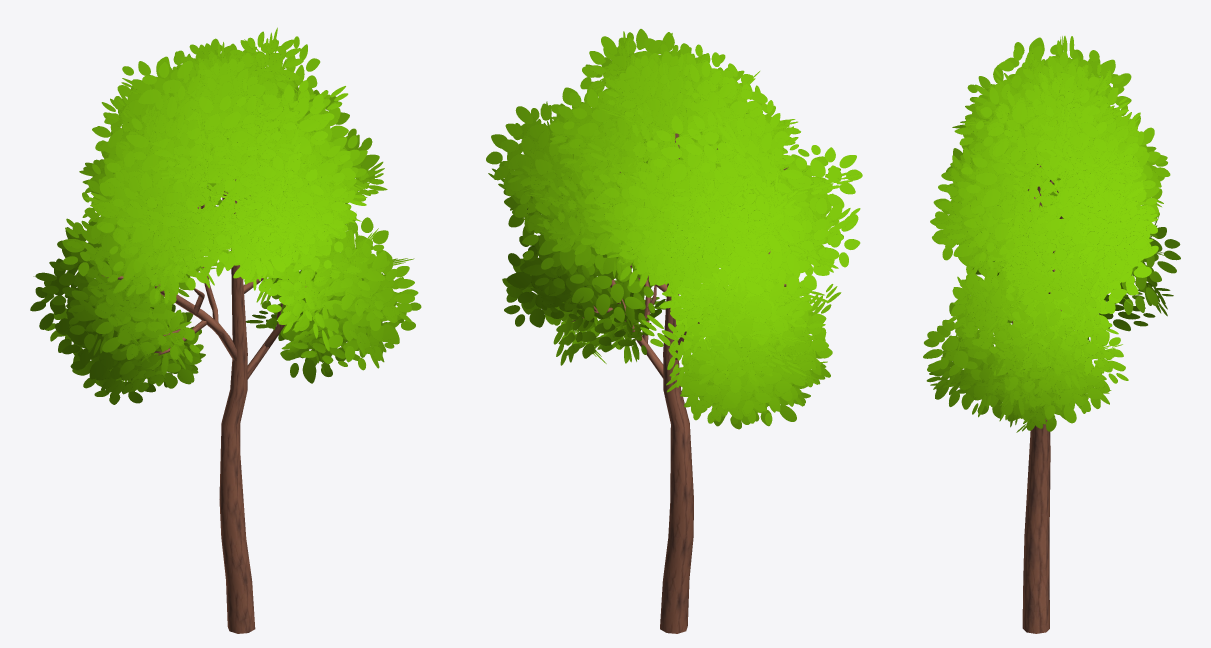
Rendered from tree_a.glb.
3 views of the same model, side by side, from view 1: azimuth 30°, elevation 25°; view 2: azimuth 150°, elevation 25°; view 3: azimuth 270°, elevation 25° (orthographic). The views are drawn at different scales.
Visible parts, largest first — view 1: NormalTree_1; view 2: NormalTree_1; view 3: NormalTree_1.
Part boxes in pixels (x1,y1,x2,y2): NormalTree_1: (30, 27, 421, 633); NormalTree_1: (486, 29, 862, 633); NormalTree_1: (923, 36, 1180, 633).
Bounding box in the file's own units: 4.83 × 7.77 × 3.49.
Materials: 2 (2 with a texture image).
